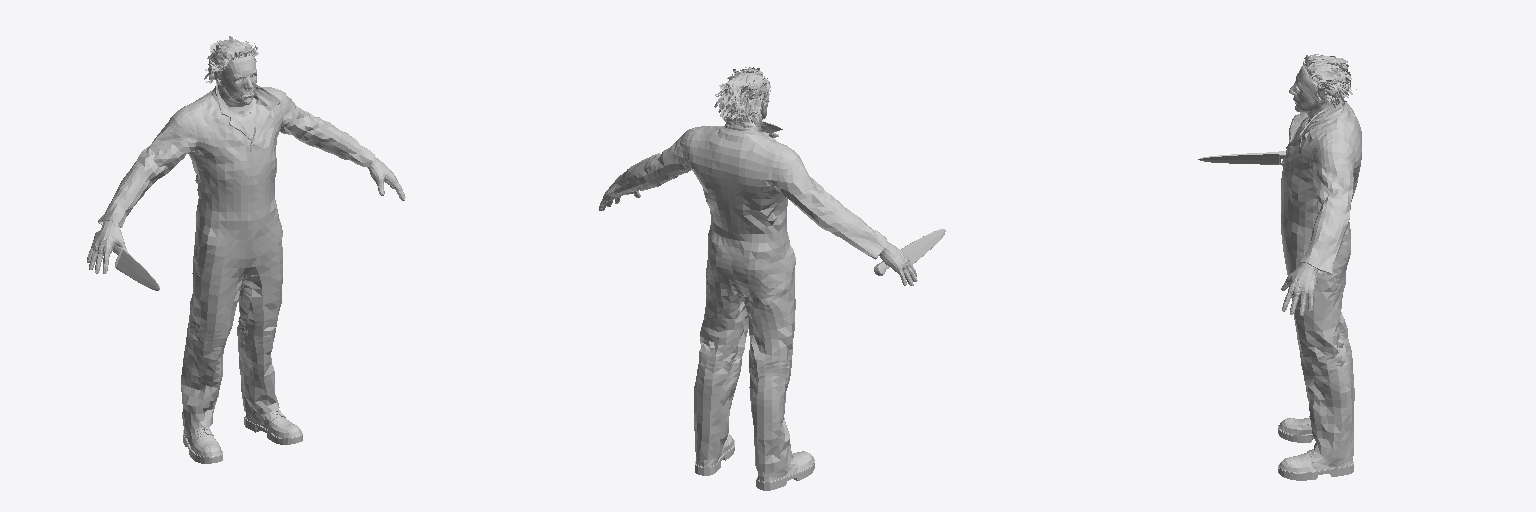
The model's file is Michael Myers.obj.
3 renders of one model, left to right at view 1: azimuth 30°, elevation 25°; view 2: azimuth 150°, elevation 25°; view 3: azimuth 270°, elevation 25°, orthographic.
Parts seen in each view (by area): view 1: 24_body_0.1_16_16, 24_mask_0.1_16_16.001, 25_hair1_0.1_16_16, 24_+knife.knife_0.1_16_16; view 2: 24_body_0.1_16_16, 25_hair1_0.1_16_16, 24_+knife.knife_0.1_16_16; view 3: 24_body_0.1_16_16, 25_hair1_0.1_16_16, 24_mask_0.1_16_16.001, 24_+knife.knife_0.1_16_16.
Boxes of the visible parts, <box> form: 24_body_0.1_16_16: <box>87,83,405,463</box>; 24_mask_0.1_16_16.001: <box>214,55,256,116</box>; 25_hair1_0.1_16_16: <box>207,36,258,79</box>; 24_+knife.knife_0.1_16_16: <box>94,231,159,290</box>; 24_body_0.1_16_16: <box>599,116,917,490</box>; 25_hair1_0.1_16_16: <box>719,67,770,122</box>; 24_+knife.knife_0.1_16_16: <box>874,229,945,275</box>; 24_body_0.1_16_16: <box>1278,102,1361,480</box>; 25_hair1_0.1_16_16: <box>1303,54,1351,104</box>; 24_mask_0.1_16_16.001: <box>1289,65,1337,125</box>; 24_+knife.knife_0.1_16_16: <box>1198,151,1285,164</box>.
Bounding box in the file's own units: 1.52 × 1.86 × 0.6951.